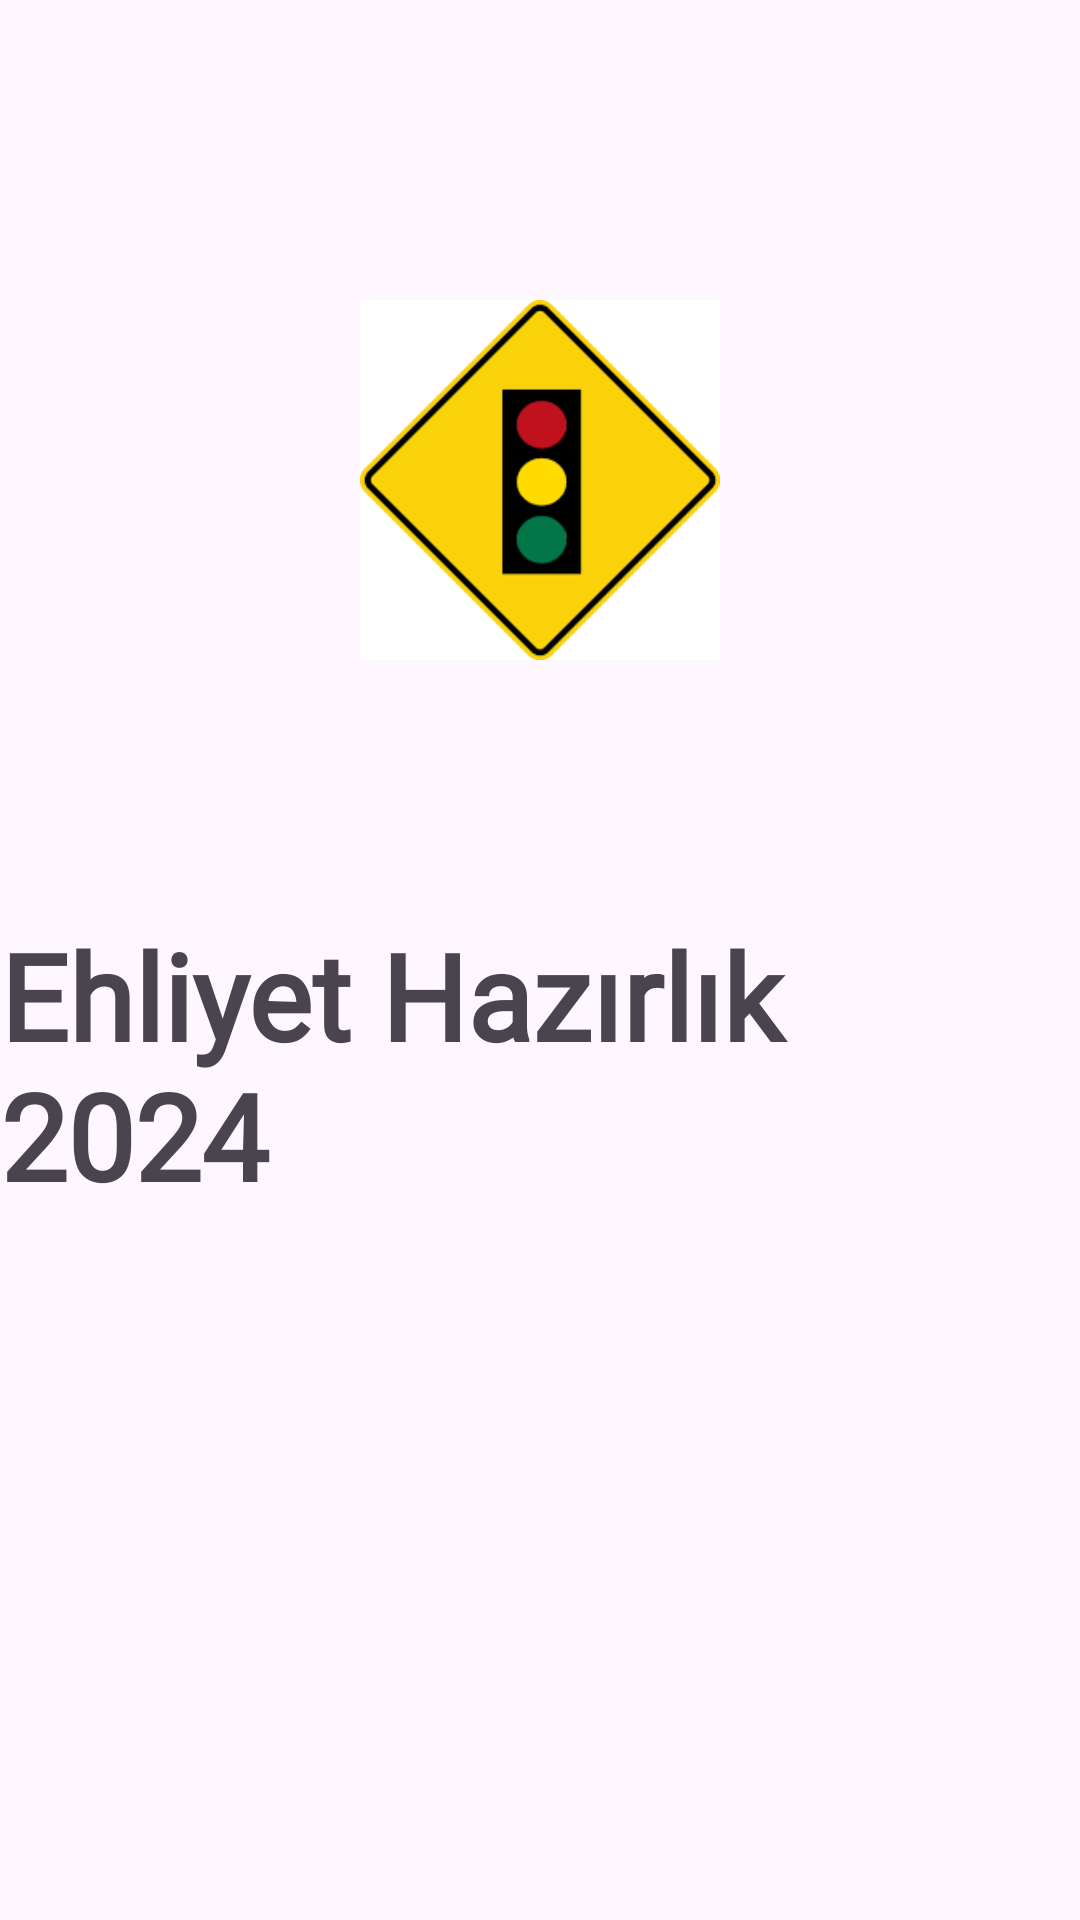

Screen size 1080 × 1920. Icon name, then its box in pixels as (x1, y1, x2, y2):
trafficlamp: (360, 300, 720, 660)
